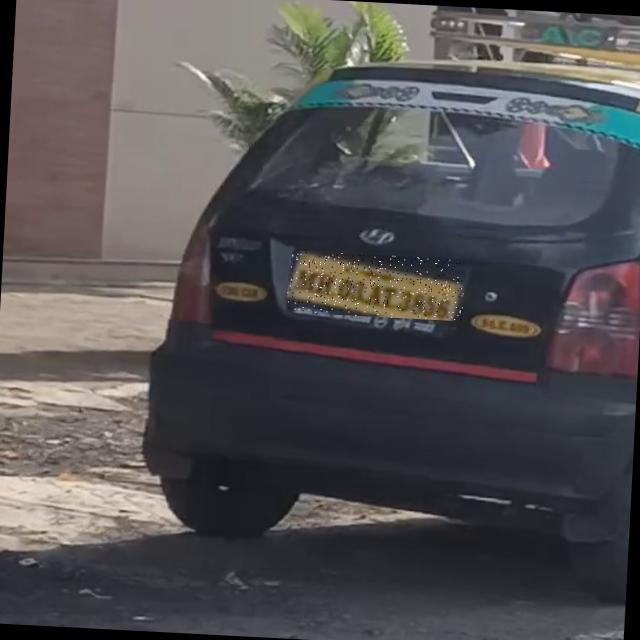Plate: (288, 252, 467, 323)
